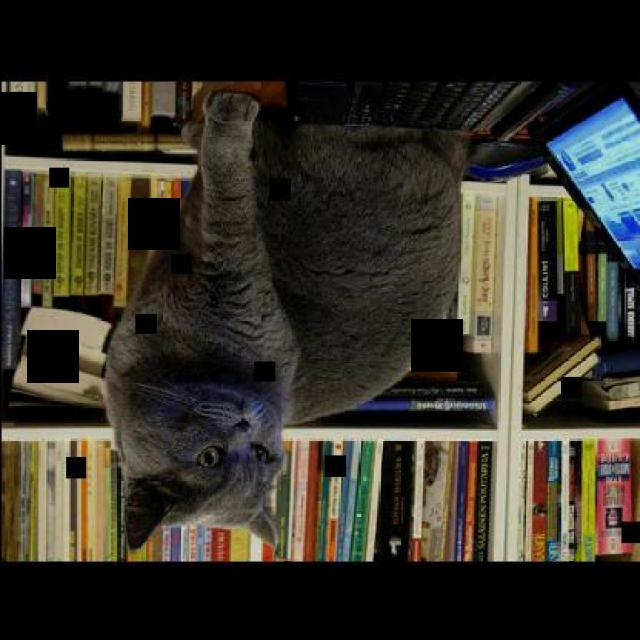unauthorized: (101, 86, 478, 551)
